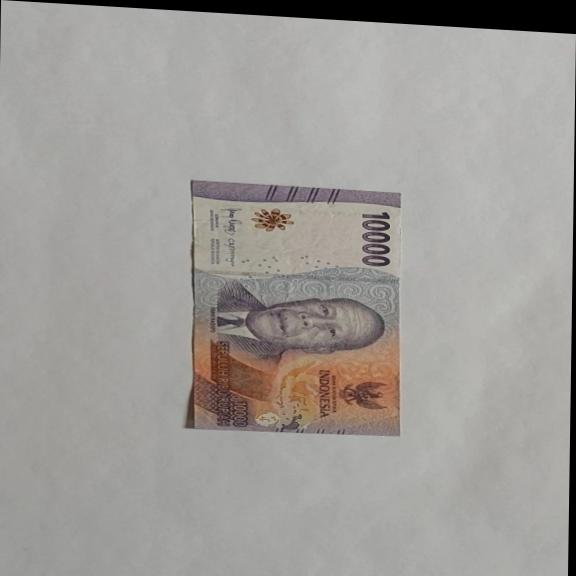Kertas: (185, 179, 406, 442), (358, 209, 394, 267)
